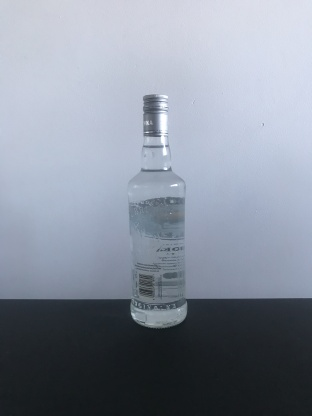nakretka: (141, 91, 170, 139)
